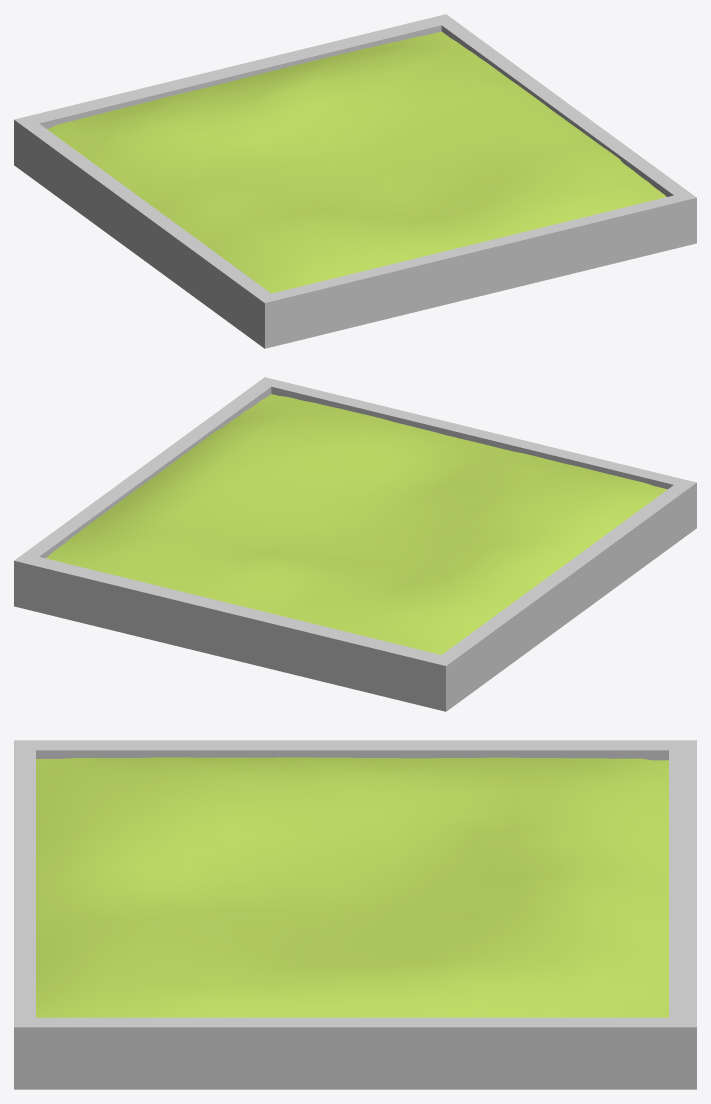
File: blank.fbx
The picture shows the model from 3 angles, top to bottom: view 1: azimuth 30°, elevation 25°; view 2: azimuth 150°, elevation 25°; view 3: azimuth 270°, elevation 25°; orthographic projection. The views are drawn at different scales.
Visible parts, largest first — view 1: Plane, Cube; view 2: Plane, Cube; view 3: Plane, Cube.
Part boxes in pixels (x1,y1,x2,y2): Plane: (47,31,666,293); Cube: (14,14,696,348); Plane: (46,394,667,654); Cube: (14,377,696,711); Plane: (36,757,668,1017); Cube: (14,740,696,1089).
Bounding box in the file's own units: 181 × 22.35 × 182.
